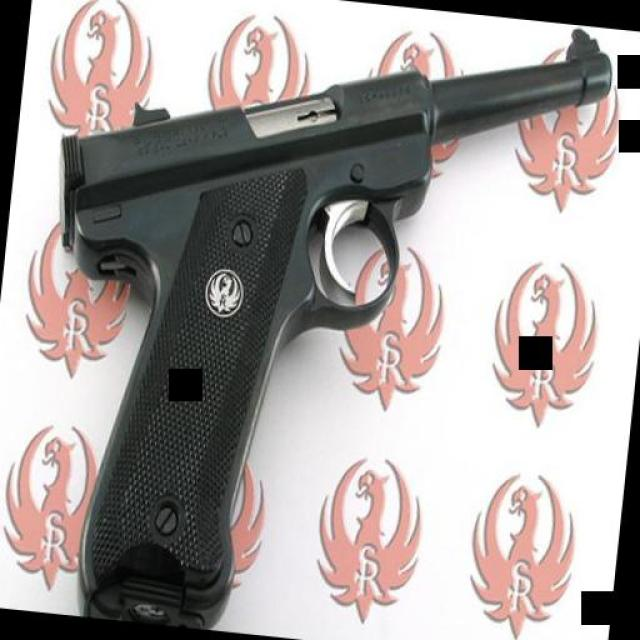gun: (9, 0, 612, 640)
